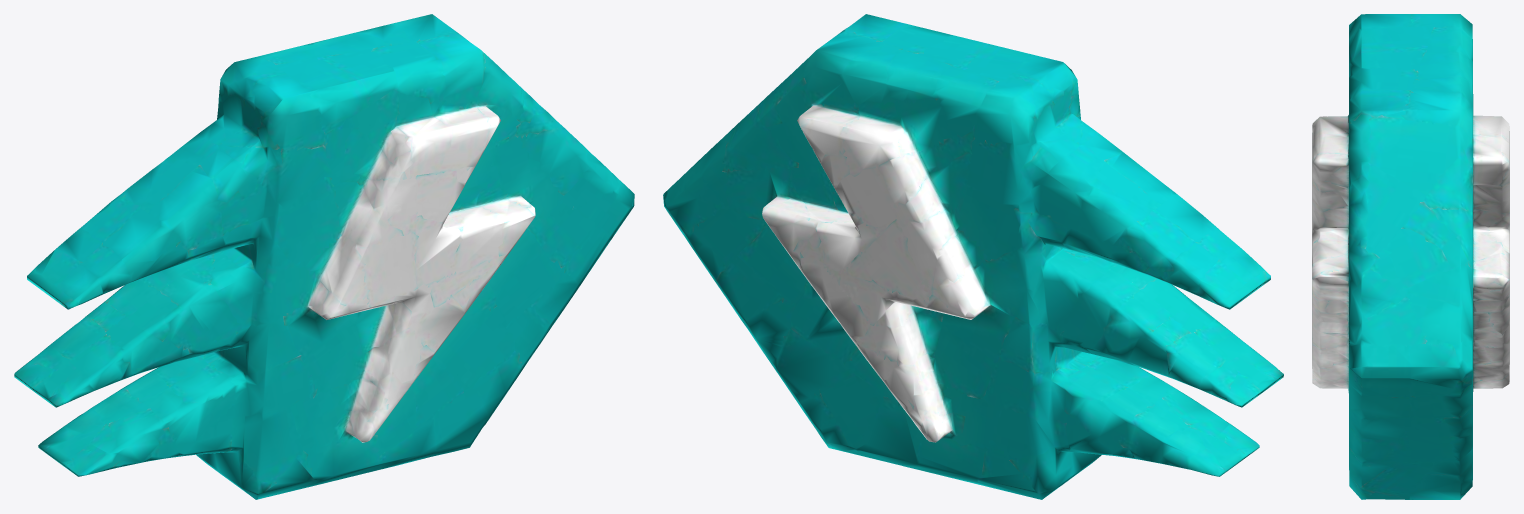
The model's file is speed.glb.
3 renders of one model, left to right at view 1: azimuth 30°, elevation 25°; view 2: azimuth 150°, elevation 25°; view 3: azimuth 270°, elevation 25°, orthographic.
Bounding box in the file's own units: 1.9 × 1.25 × 0.565.
Materials: 1 (1 with a texture image).
